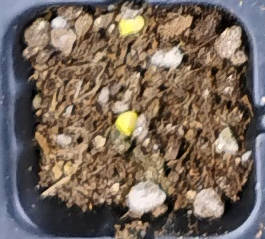chilli seed: (115, 110, 138, 136), (117, 15, 143, 37)
